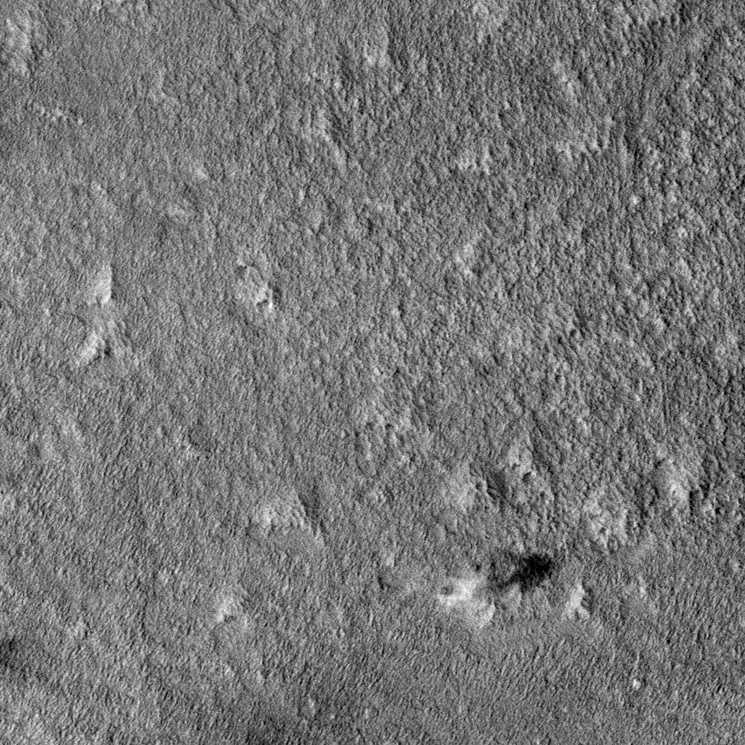dust_devil: (432, 547, 561, 630)
